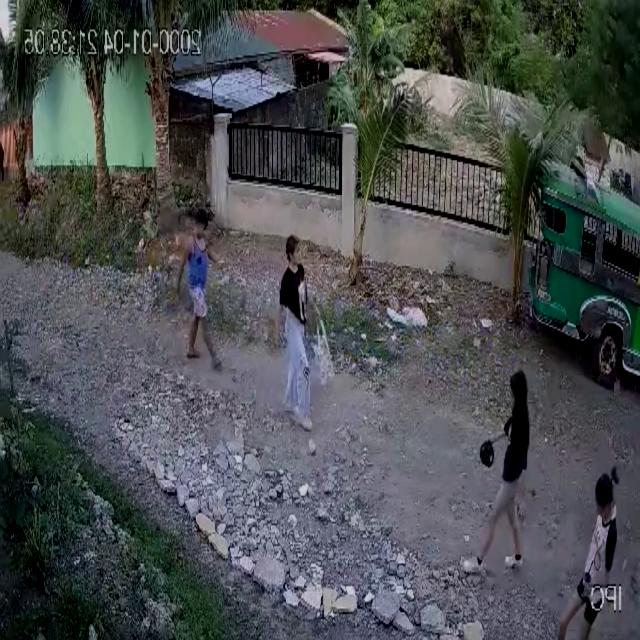walking: (458, 367, 538, 583), (268, 226, 330, 426), (558, 459, 624, 639), (167, 205, 223, 377)
